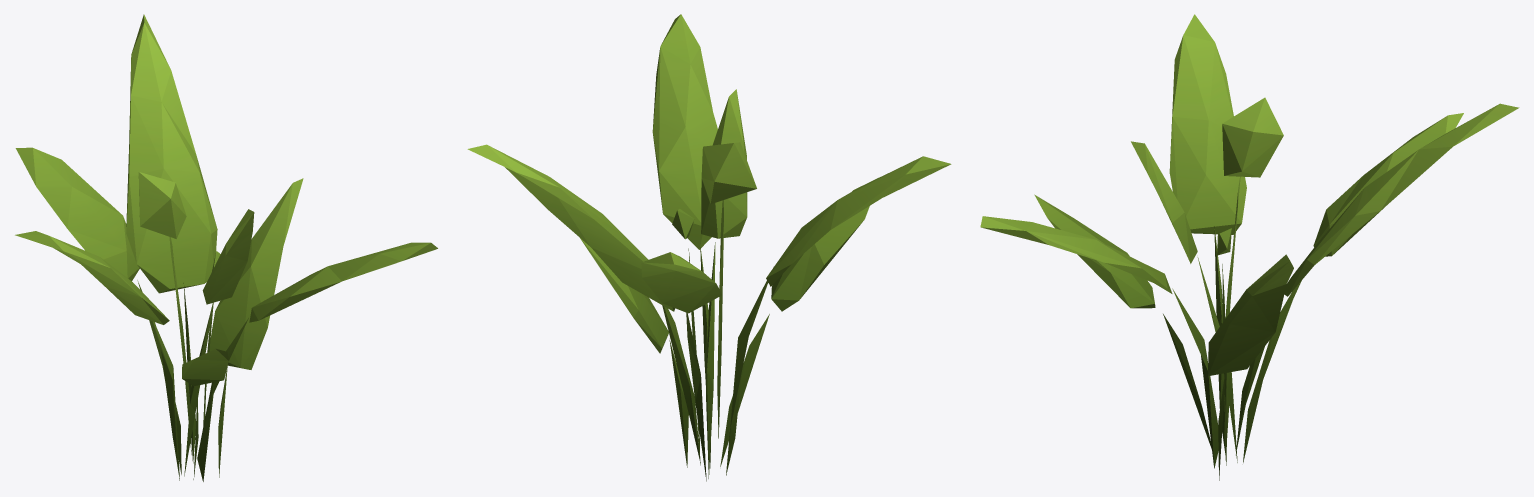
Rendered from ZLP_Grass_C_2.FBX.
3 views of the same model, side by side, from view 1: azimuth 30°, elevation 25°; view 2: azimuth 150°, elevation 25°; view 3: azimuth 270°, elevation 25° (orthographic). The views are drawn at different scales.
Parts seen in each view (by area): view 1: ZLP_Grass_C_2; view 2: ZLP_Grass_C_2; view 3: ZLP_Grass_C_2.
Boxes of the visible parts, x1,y1,x2,y2 form: ZLP_Grass_C_2: [15, 14, 437, 481]; ZLP_Grass_C_2: [467, 14, 951, 481]; ZLP_Grass_C_2: [980, 14, 1519, 480].
Size of the model in its own units: 150 by 154 by 185.
